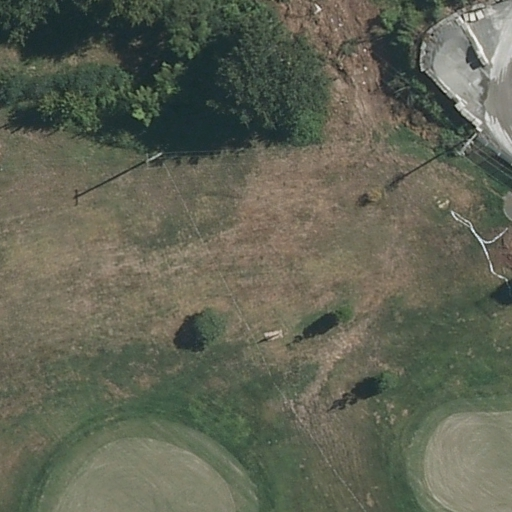DT: (459, 134, 477, 159), (142, 151, 162, 166)
